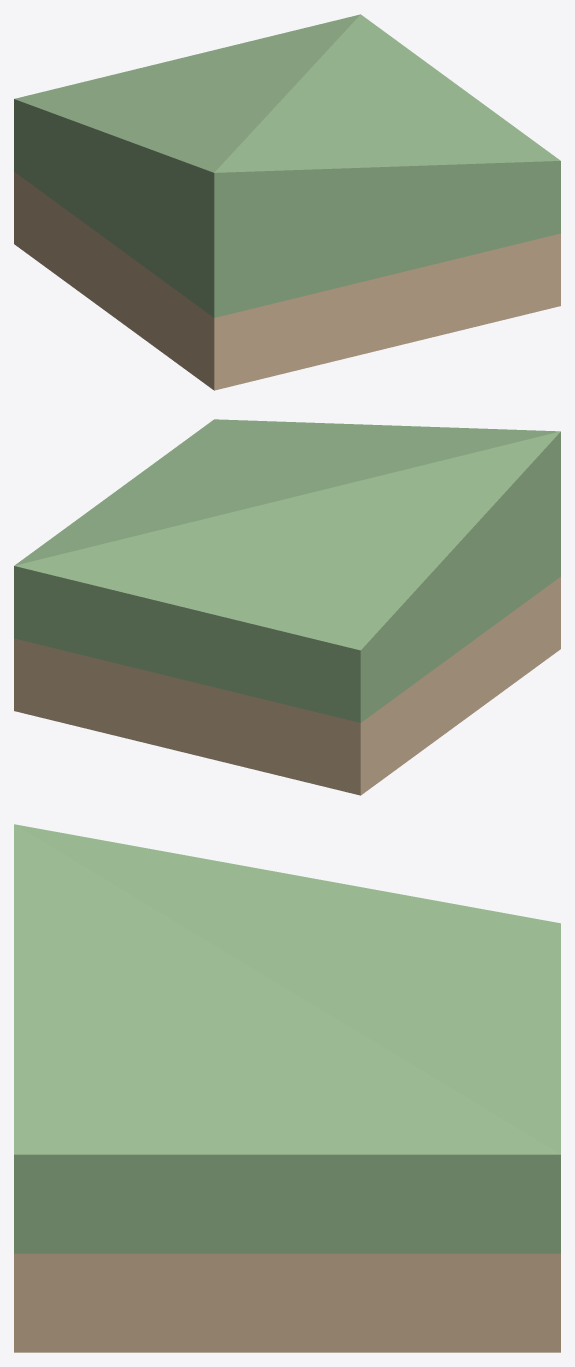
File: tile_113.glb
3 renders of one model, top to bottom at view 1: azimuth 30°, elevation 25°; view 2: azimuth 150°, elevation 25°; view 3: azimuth 270°, elevation 25°, orthographic. The views are drawn at different scales.
Parts seen in each view (by area): view 1: tile_113; view 2: tile_113; view 3: tile_113.
Boxes of the visible parts, left/top/right/bottom form: tile_113: left=14, top=14, right=560, bottom=390; tile_113: left=14, top=419, right=560, bottom=795; tile_113: left=14, top=824, right=560, bottom=1352.
Bounding box in the file's own units: 1 × 0.6 × 1.
